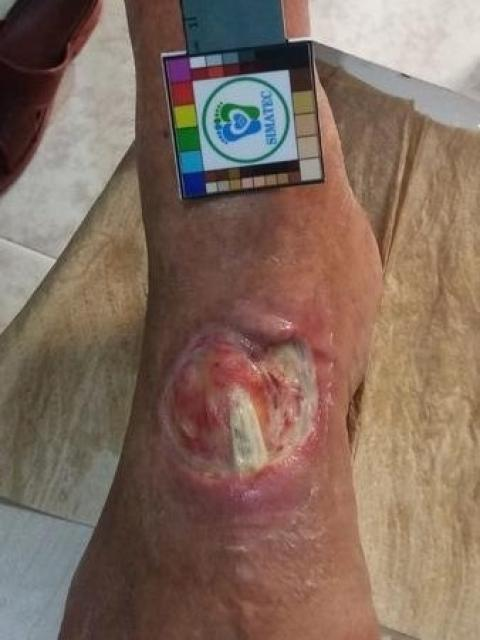wound: (161, 323, 330, 490)
